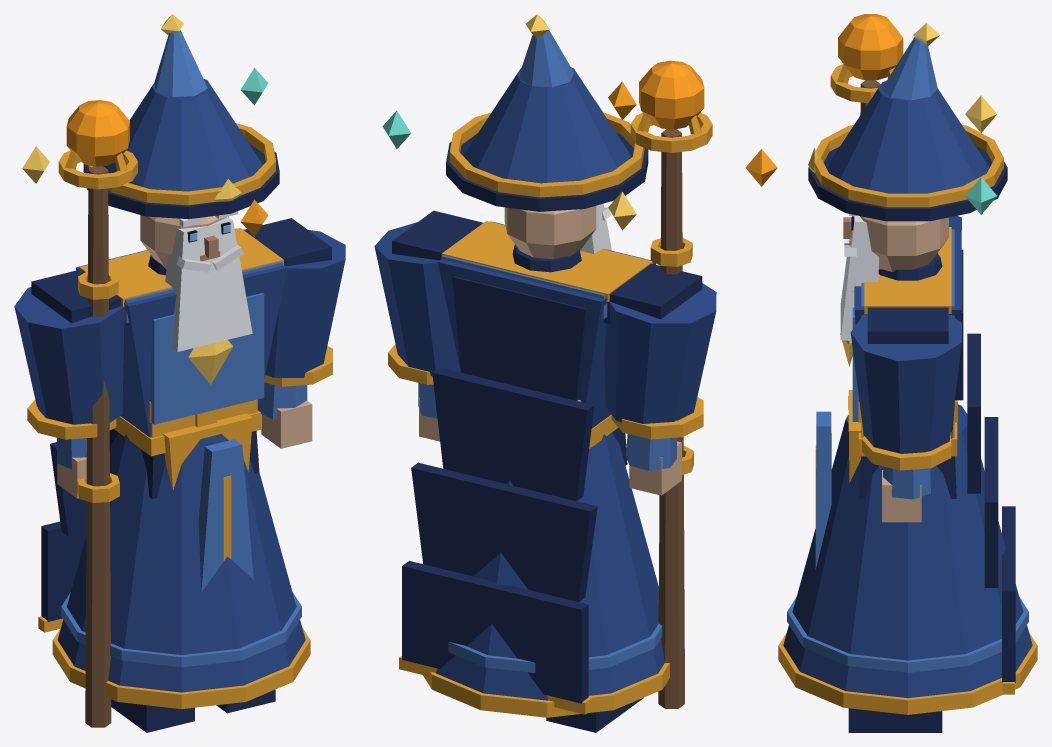
Rendered from archmage.obj.
The picture shows the model from 3 angles, left to right: view 1: azimuth 30°, elevation 25°; view 2: azimuth 150°, elevation 25°; view 3: azimuth 270°, elevation 25°; orthographic projection. The views are drawn at different scales.
Visible parts, largest first — view 1: hips, head, torso, weapon, arm_r, arm_l, cape, focus, leg_r; view 2: cape, head, hips, arm_r, weapon, torso, arm_l, focus, leg_r; view 3: hips, head, arm_l, cape, torso, weapon, leg_l, focus.
Boxes of the visible parts, x1,y1,x2,y2 form: hips: [52, 410, 310, 709]; head: [83, 14, 279, 351]; torso: [75, 228, 287, 490]; weapon: [58, 100, 137, 727]; arm_r: [14, 269, 126, 498]; arm_l: [243, 218, 345, 448]; cape: [38, 442, 86, 632]; focus: [22, 68, 268, 236]; leg_r: [111, 699, 194, 732]; cape: [399, 276, 597, 714]; head: [446, 14, 648, 259]; hips: [423, 414, 669, 717]; arm_r: [603, 263, 716, 495]; weapon: [630, 60, 712, 708]; torso: [438, 221, 656, 428]; arm_l: [374, 210, 483, 441]; focus: [382, 81, 636, 230]; leg_r: [546, 697, 643, 732]; hips: [778, 404, 1037, 714]; head: [808, 23, 1007, 340]; arm_l: [850, 307, 961, 522]; cape: [955, 249, 1015, 694]; torso: [840, 227, 961, 482]; weapon: [830, 14, 903, 409]; leg_l: [848, 708, 942, 732]; focus: [745, 95, 997, 214].
Bounding box in the file's own units: 0.5923 × 1.2 × 0.469.
